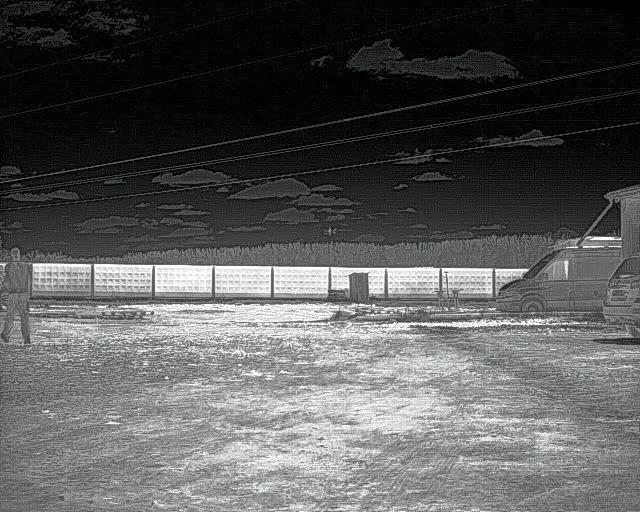drone-thermal: (321, 224, 339, 237)
